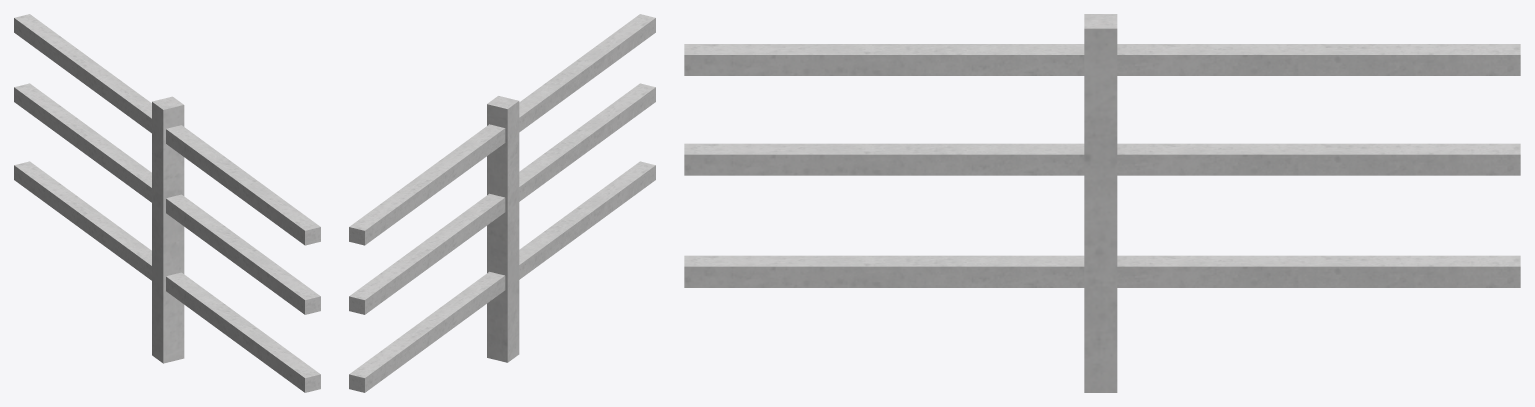
The model's file is MB_Parapet_C_2m.fbx.
3 views of the same model, side by side, from view 1: azimuth 30°, elevation 25°; view 2: azimuth 150°, elevation 25°; view 3: azimuth 270°, elevation 25° (orthographic). The views are drawn at different scales.
Visible parts, largest first — view 1: MB_Parapet_2m_C; view 2: MB_Parapet_2m_C; view 3: MB_Parapet_2m_C.
Part boxes in pixels (x1=…): MB_Parapet_2m_C: x1=14, y1=14, x2=320, y2=392; MB_Parapet_2m_C: x1=349, y1=14, x2=655, y2=392; MB_Parapet_2m_C: x1=684, y1=14, x2=1520, y2=392.
Bounding box in the file's own units: 8.27 × 96.19 × 200.
